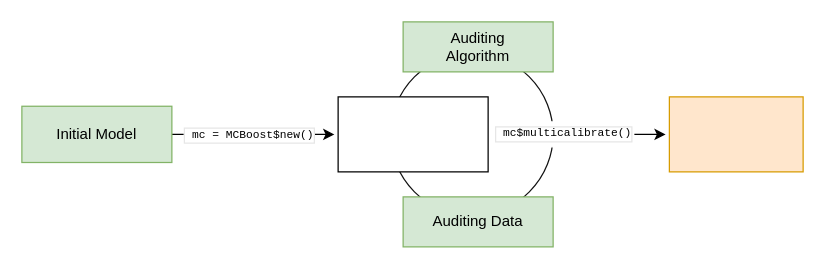
The diagram is 825 pixels wide and 269 high, and some of its shapes have lost their labels. Each missing label, with the box of its shape:
Multi-Calibrated Model: (668, 96, 803, 172)
Multi-Calibration Boosting: (337, 96, 488, 172)
